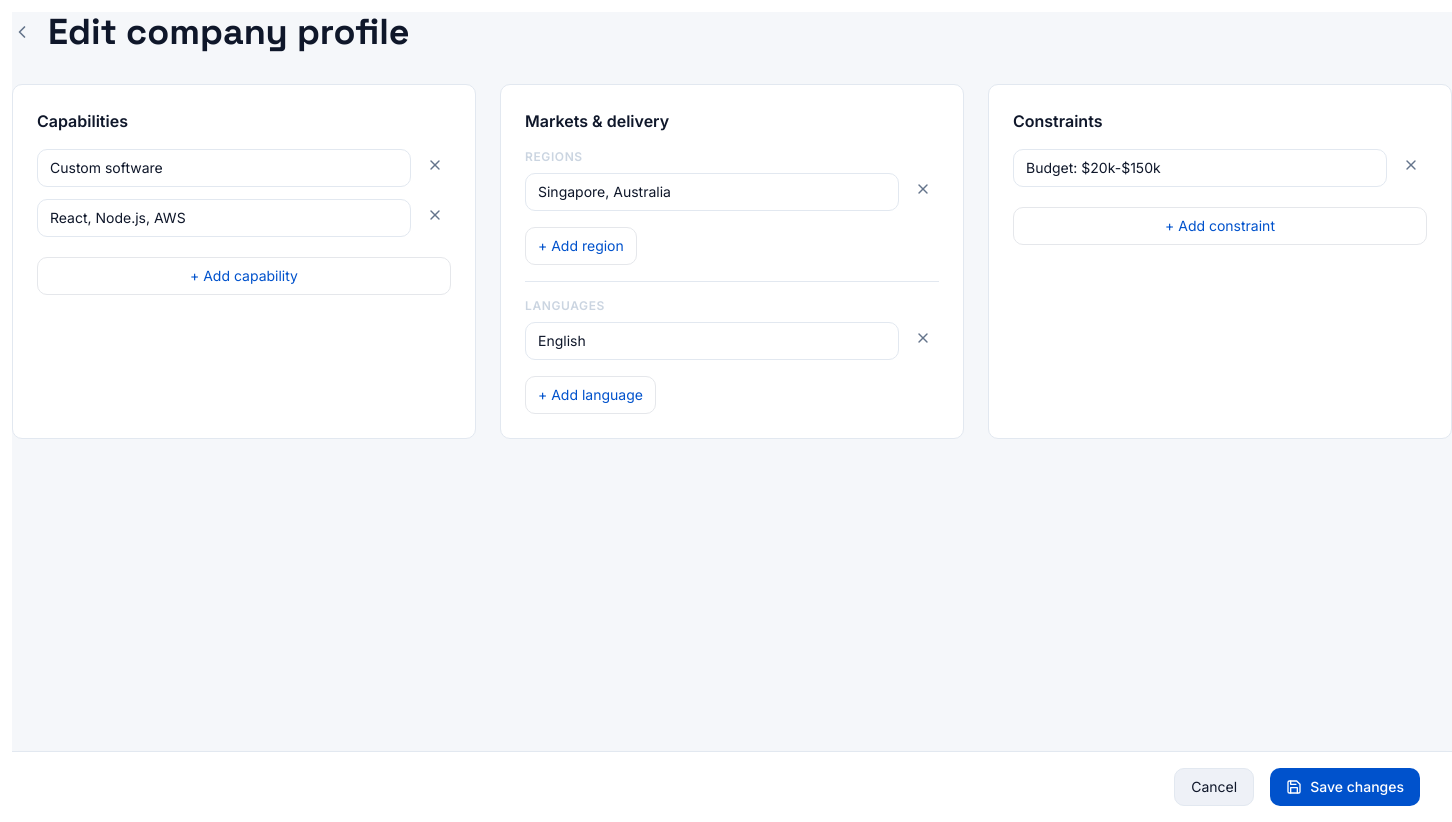
Test: ProfileEditor › allows adding new capabilities
The image size is (1452, 822).
Click the button "+ Add capability".
click(244, 276)  # box [37,257,451,295]
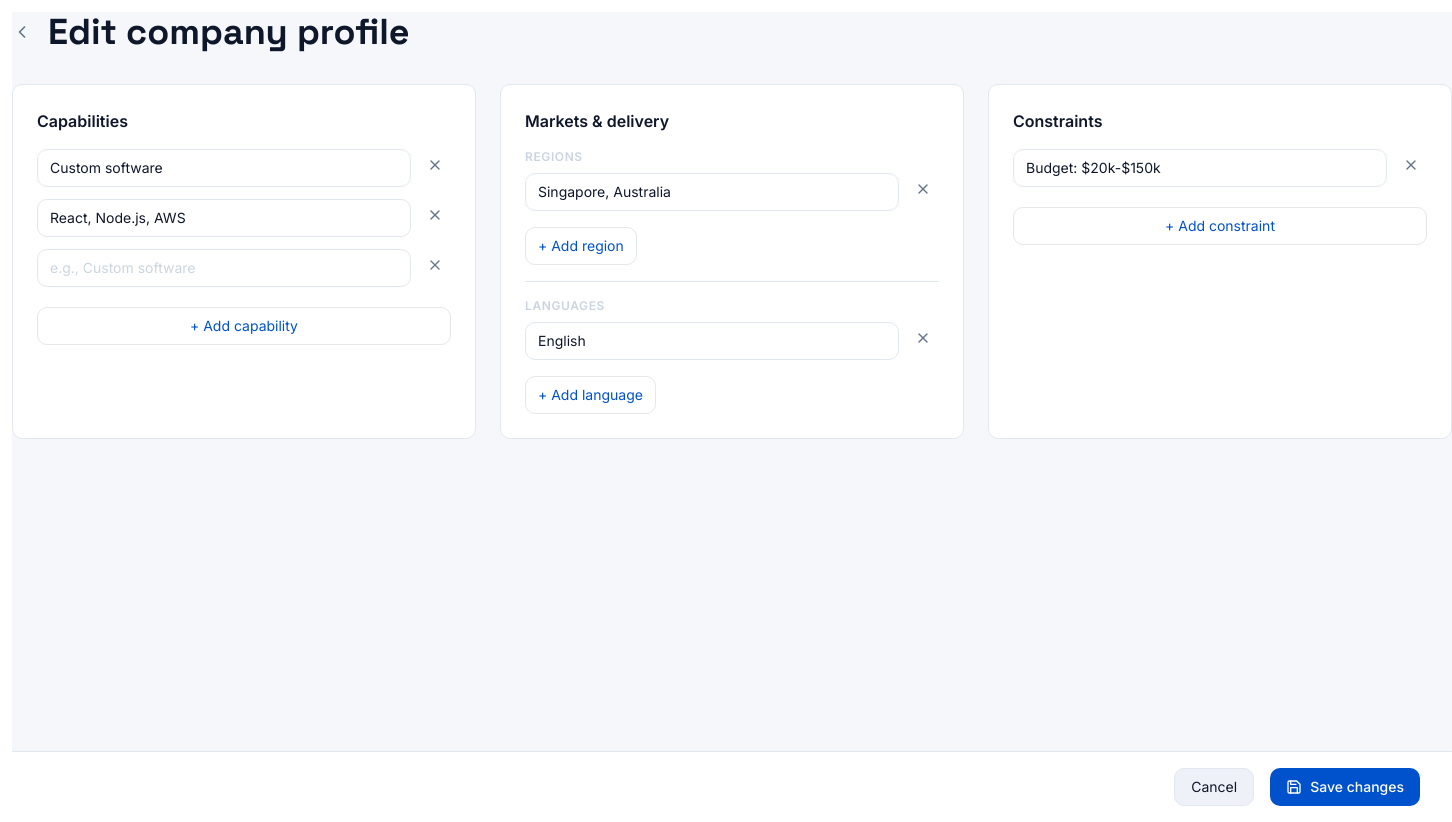
Check: the number of fields with placeholder "e.g., Custom software" is 3, box [37,149,411,187]; [37,199,411,237]; [37,249,411,287]
